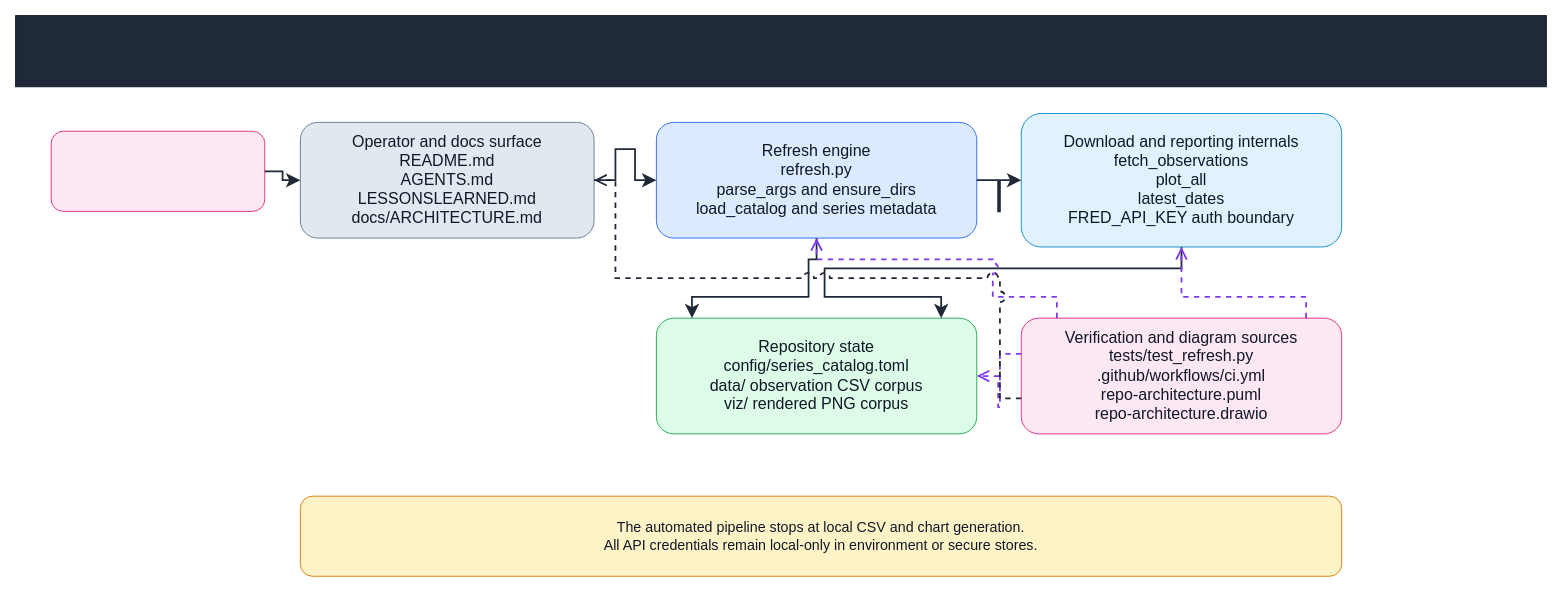
The diagram is 1562 pixels wide and 592 high, and some of its shapes have lost their labels. Each missing label, with the box of its shape:
Contributor runs refreshes and updates docs: (50, 130, 265, 211)
fred-public-data Repository Architecture: (15, 15, 1546, 87)
